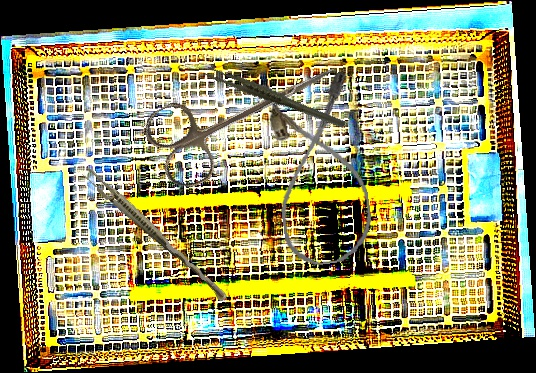Cannula: (263, 70, 377, 270)
Iris Scissors: (137, 27, 354, 196)
Tissue Forceps: (78, 165, 234, 304), (203, 44, 347, 152)
